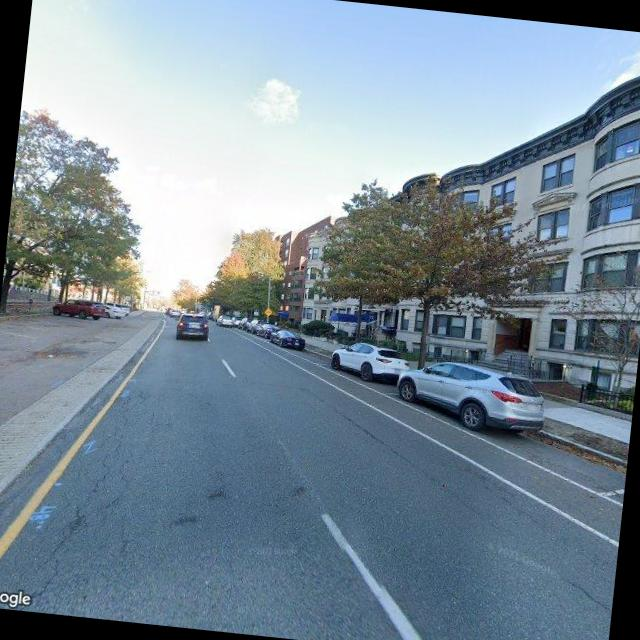pothole: (22, 415, 133, 606)
